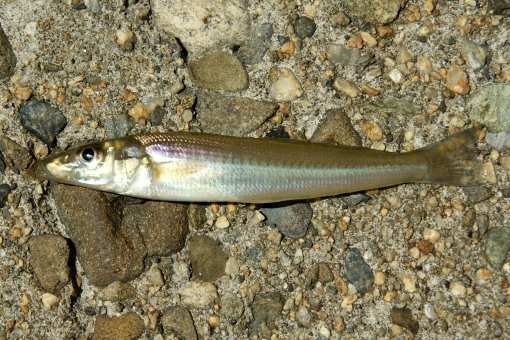kiss: (36, 118, 484, 205)
